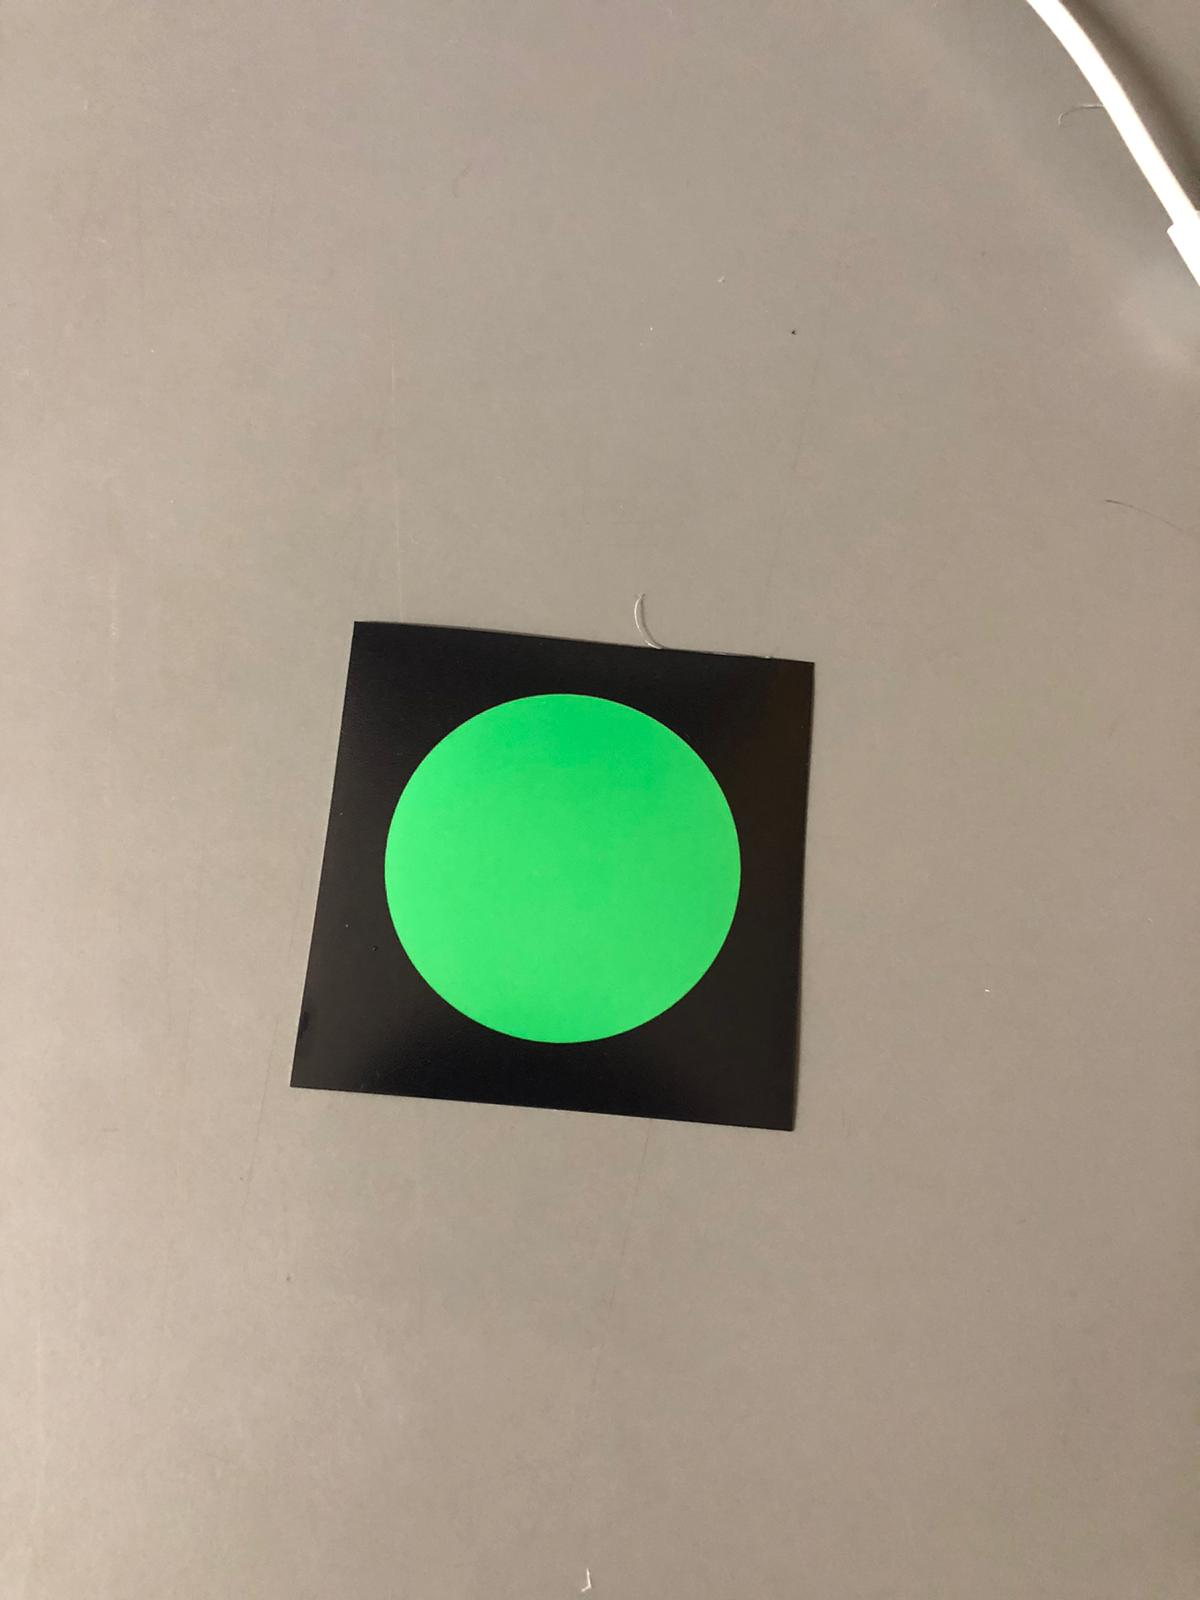Circle: (366, 636, 765, 1107)
